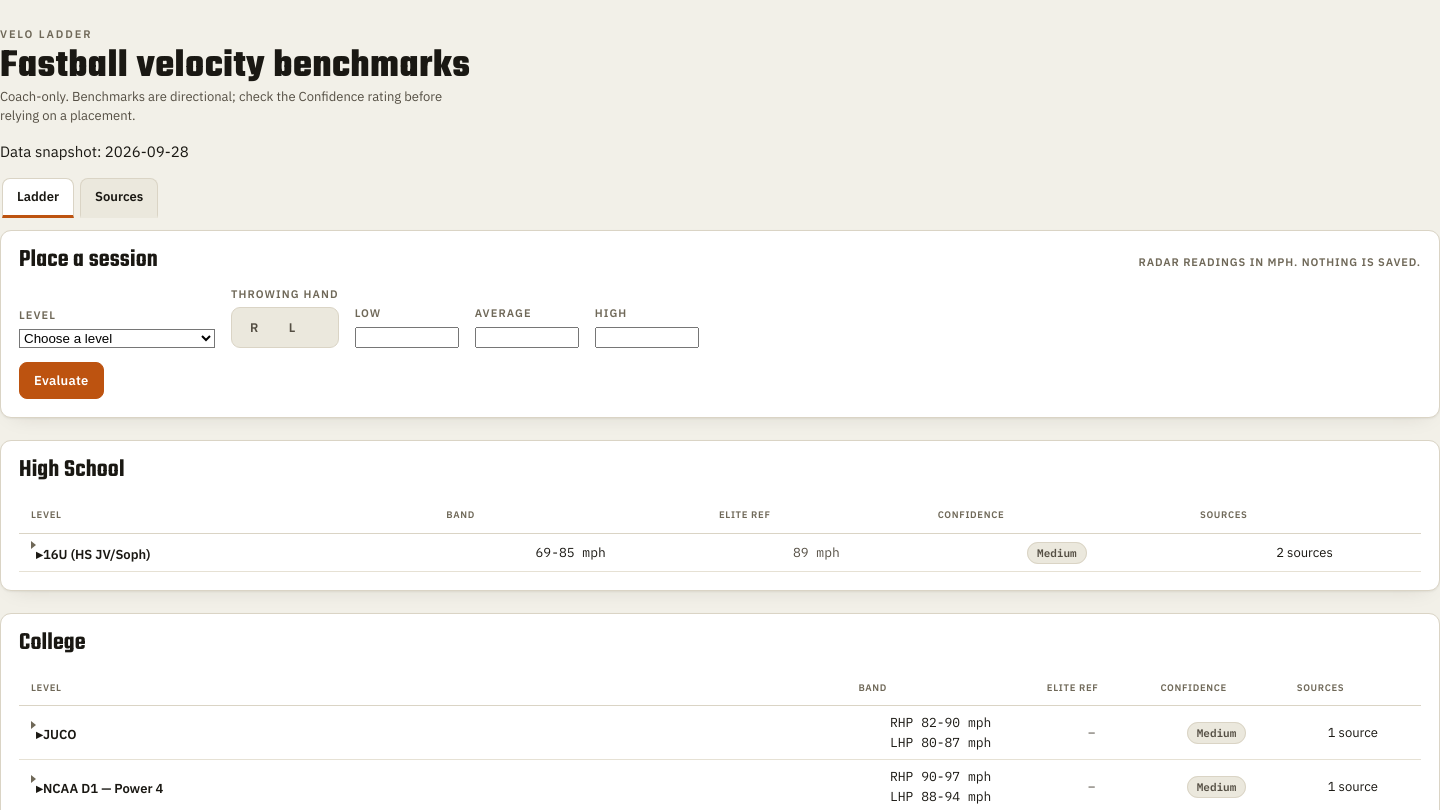
Scenario: a JUCO right-hander at 84 / 88 / 91 matches the guide's worked example
Select "JUCO" in the dropdown labelled "Level" at (117, 338), box [19,329,215,348]
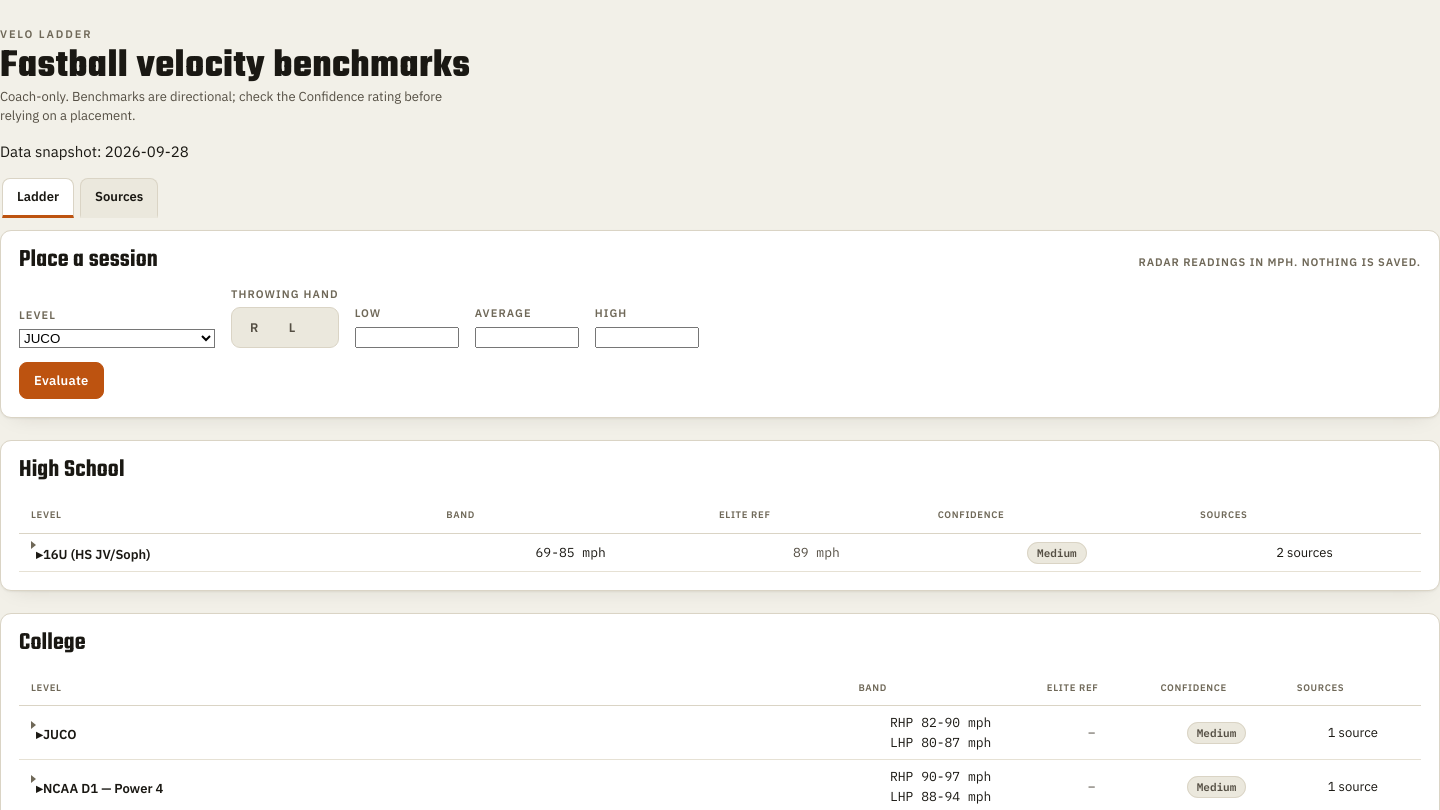
Click the button "R" at (254, 327), box [235,311,274,344]
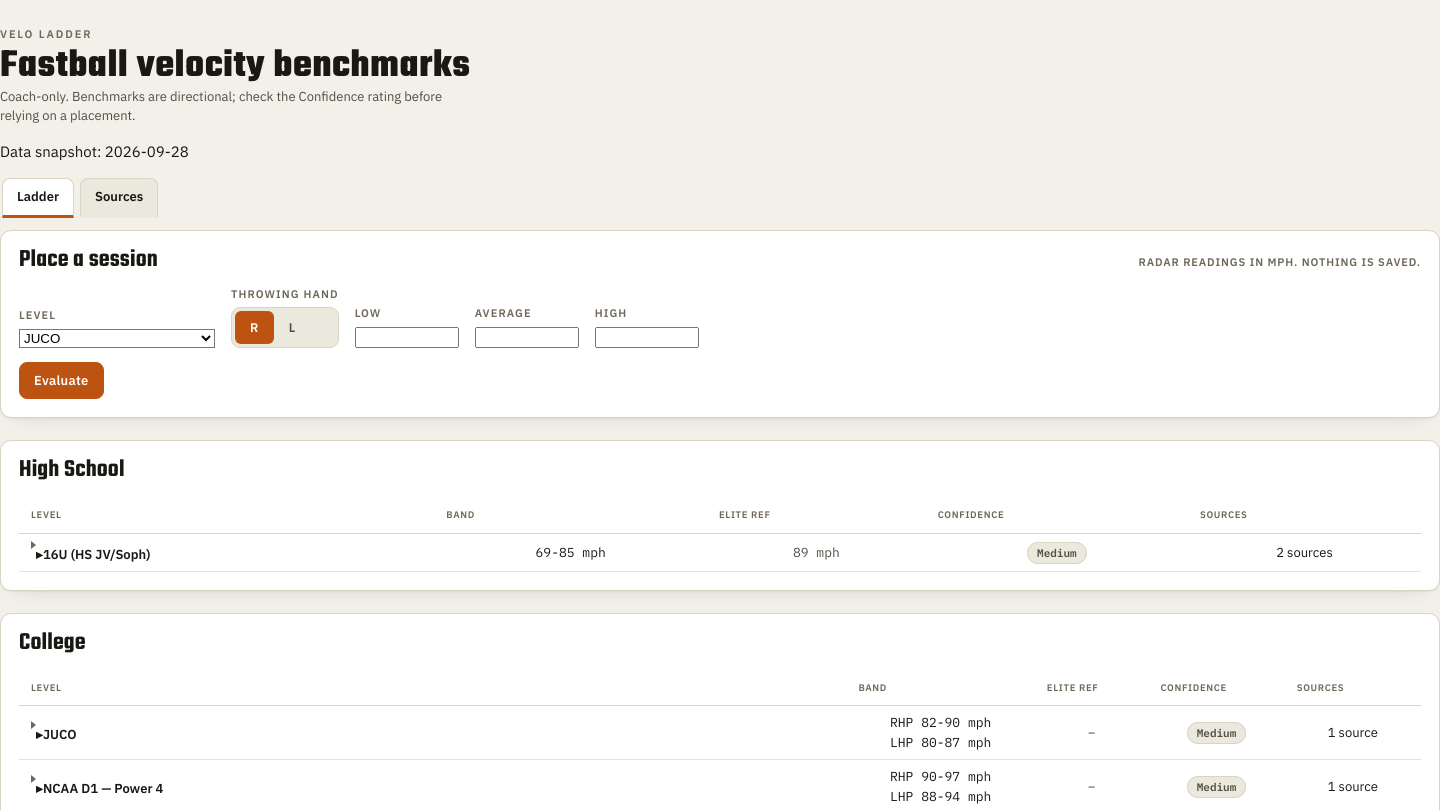
Type "84" into the number field labelled "Low" at (407, 337), box [355,327,459,348]
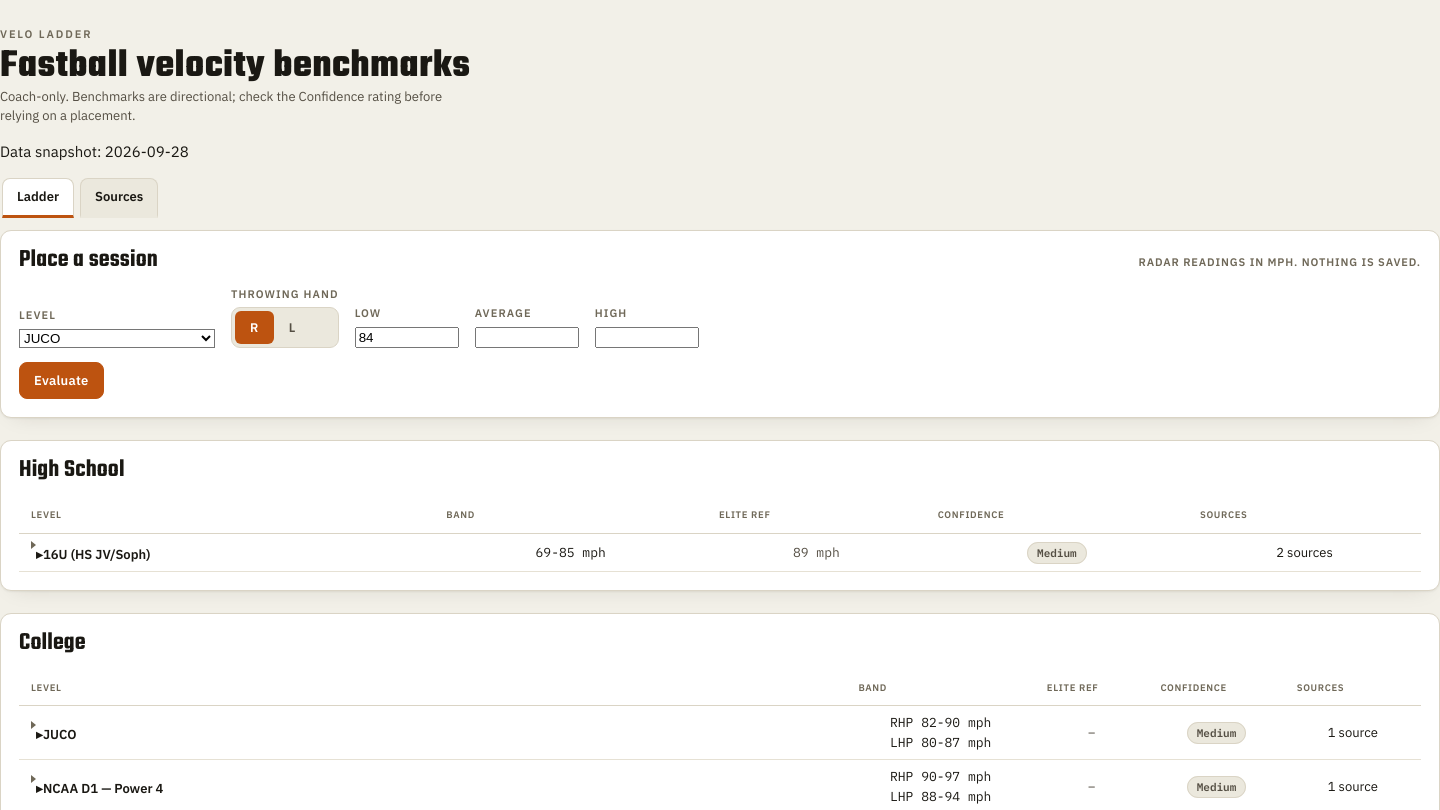
Type "88" into the number field labelled "Average" at (527, 337), box [475,327,579,348]
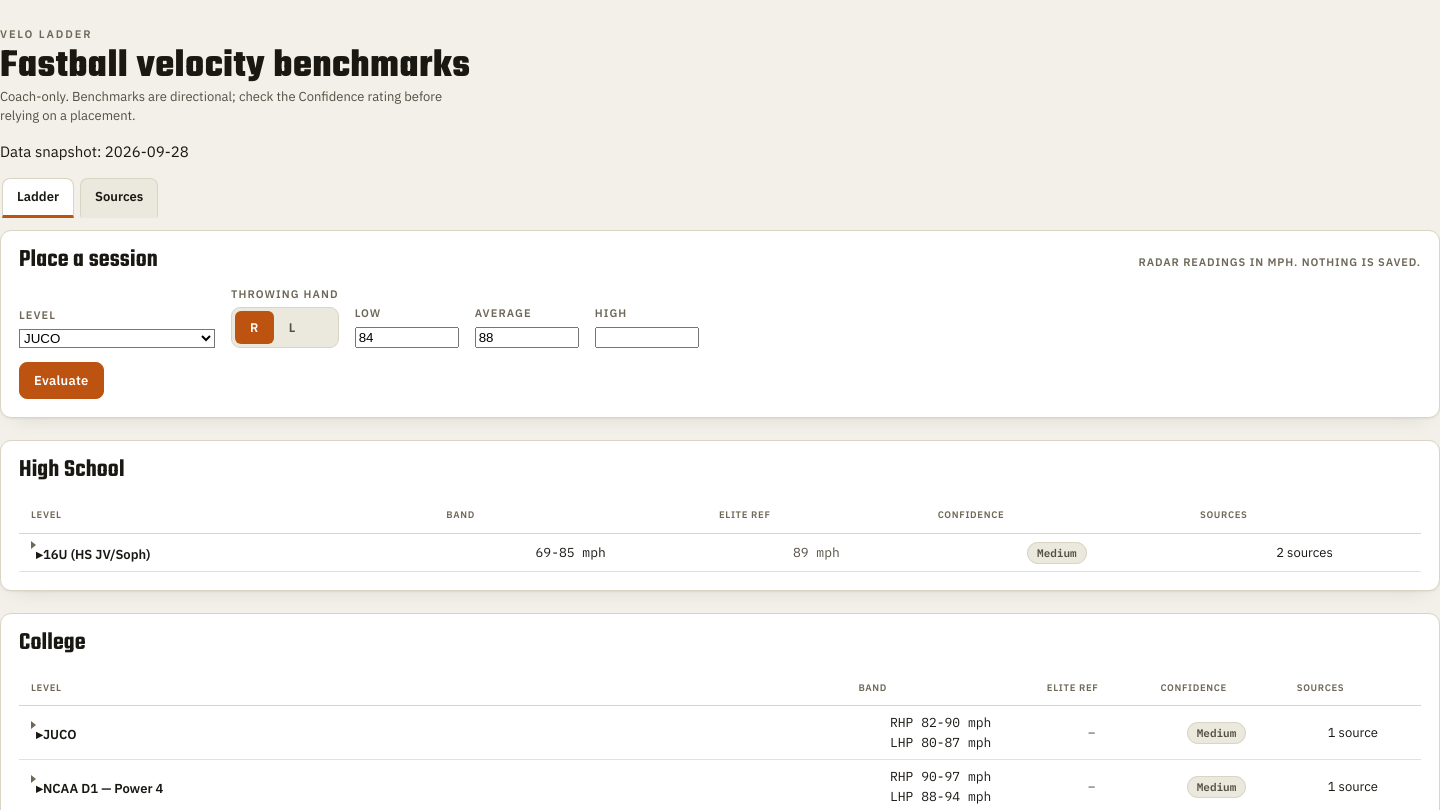
Type "91" into the number field labelled "High" at (647, 337), box [595,327,699,348]
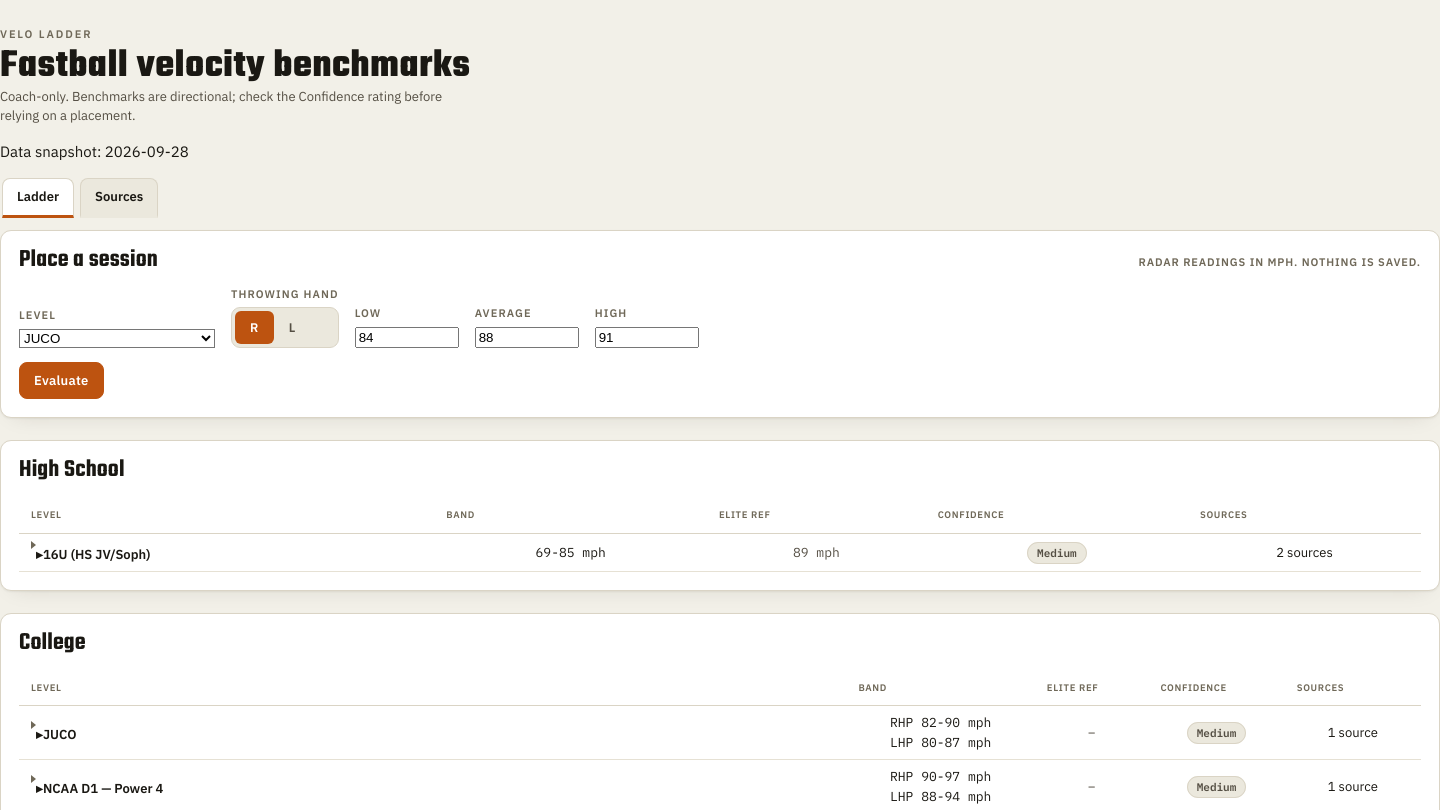
Click the button "Evaluate" at (61, 381), box [19,362,104,399]
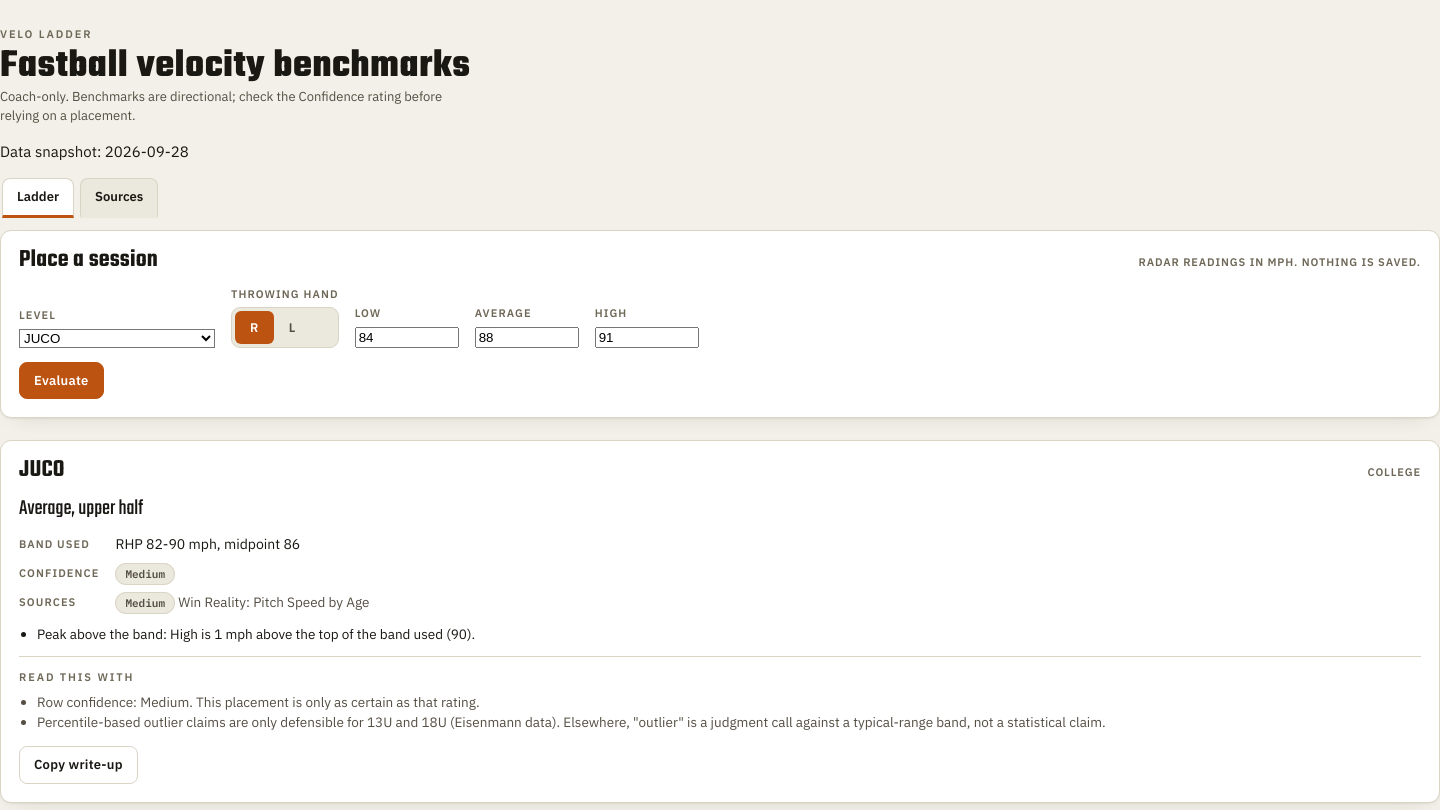
Now the text "Average, upper half" is shown, box [19,493,143,524]
Now the element named "Placement result" shows "RHP 82-90 mph", box [115,534,300,552]
Now the element named "Placement result" shows "midpoint 86", box [115,534,300,552]
